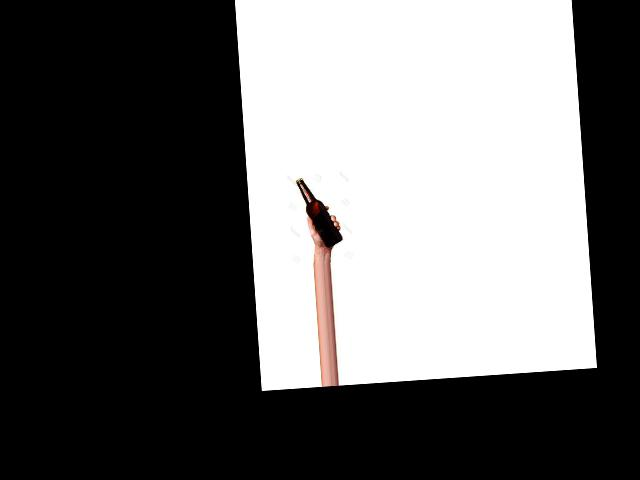beer: (294, 175, 342, 249)
